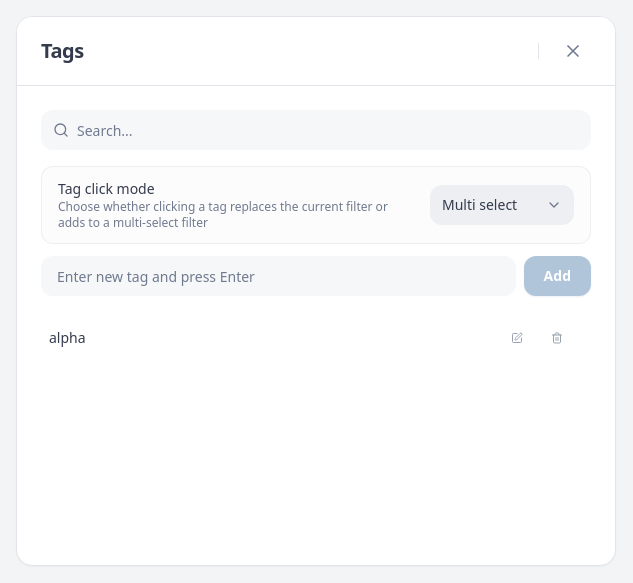
it: TagManagerModal › creates a new prompt tag through the manager
expect the text "alpha" is shown: met, box [49,328,86,348]
Type "beta" into the field with placeholder "Enter new tag and press Enter" at (278, 276), box [41,256,516,296]
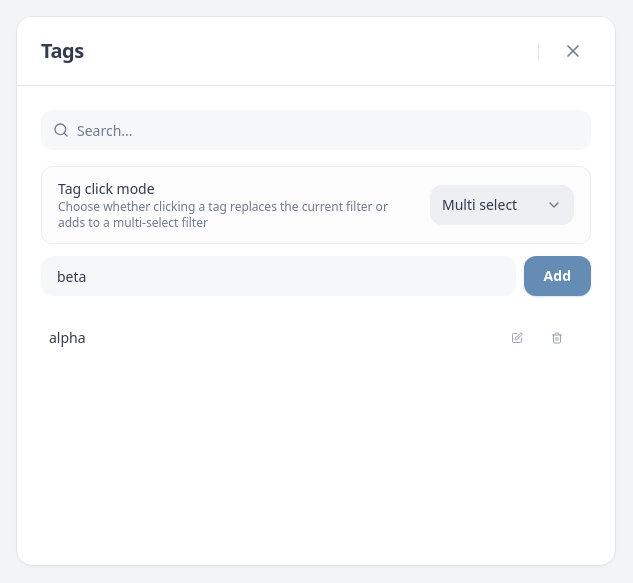
Click the button "Add" at (557, 276), box [524,256,591,296]
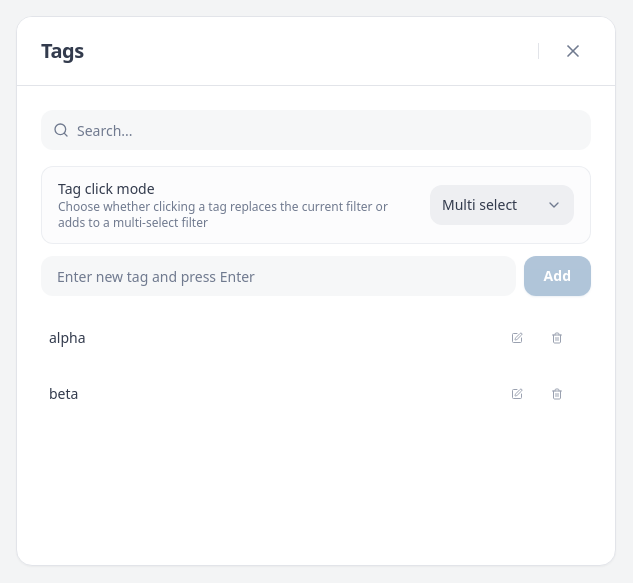
expect the text "beta" is shown: met, box [49,384,78,404]
